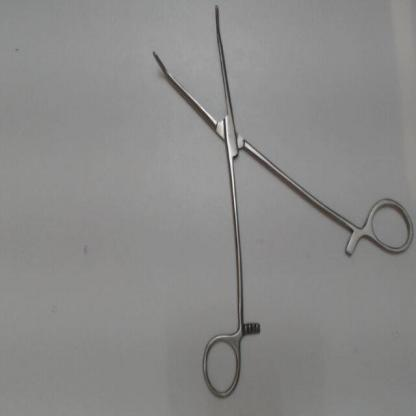Lahey Forceps: (146, 2, 415, 403)
